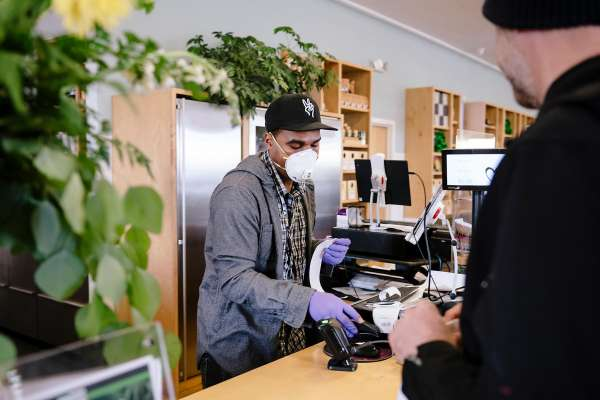n95: (282, 146, 323, 187)
